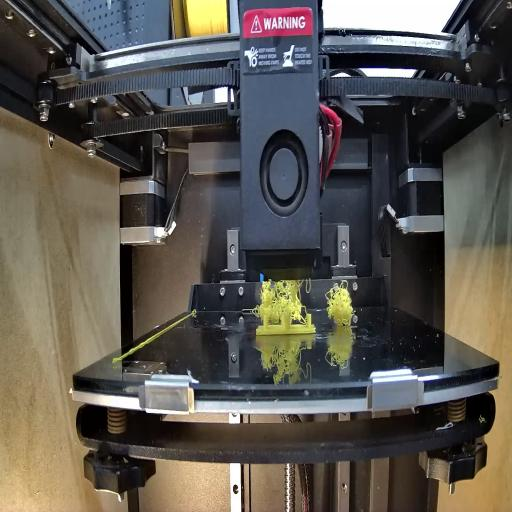spaghetti: (256, 274, 310, 322), (325, 280, 357, 328)
